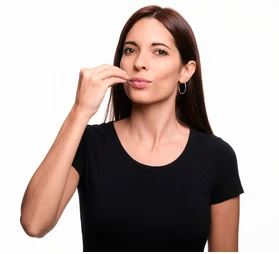eat: (72, 64, 163, 127)
